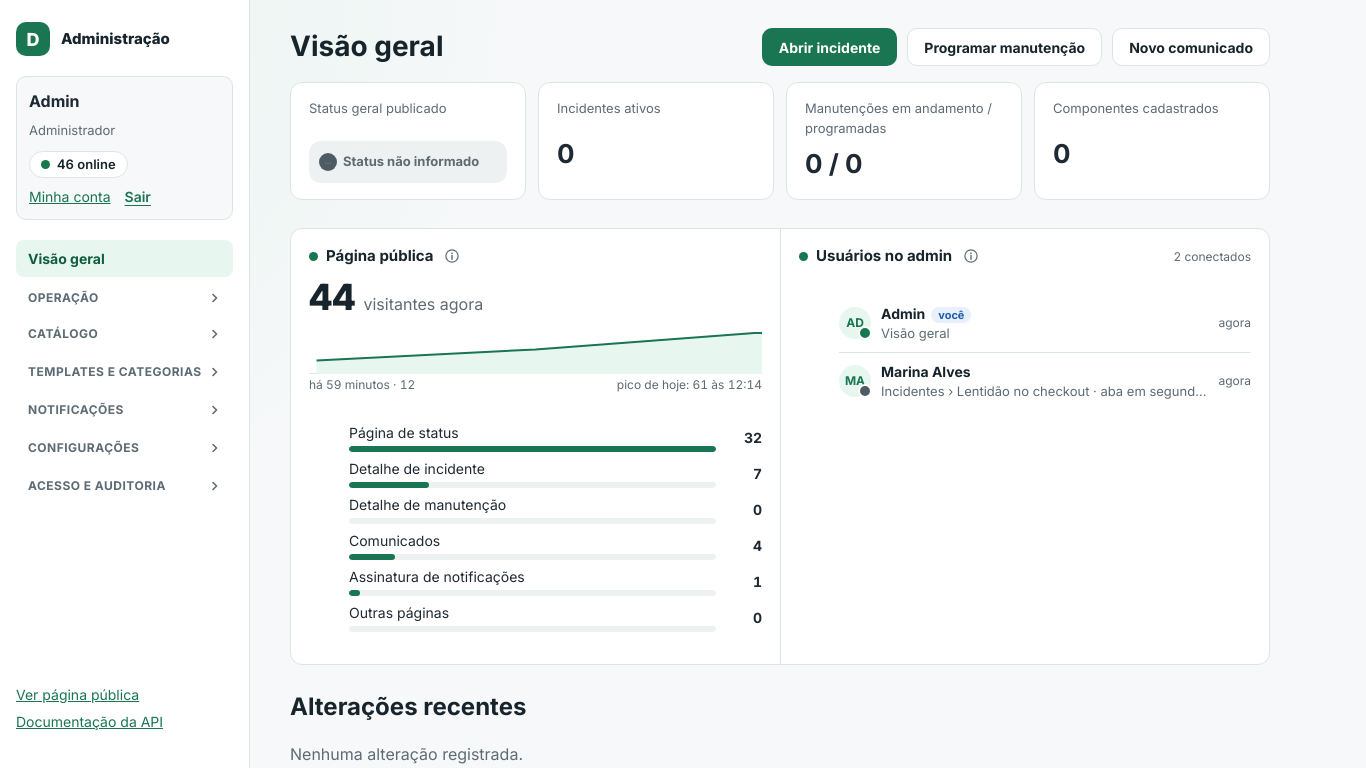
Test case: presence › shows who is here now on the overview and in the menu counter
This screenshot has width=1366, height=768.
Expected: the text "44" is shown, [309, 279, 356, 315]
Expected: the text "Detalhe de incidente" is shown, [349, 460, 485, 477]
Step 1. Click the button with aria-label "46 pessoas acessando agora" → (78, 164), box [29, 150, 128, 178]
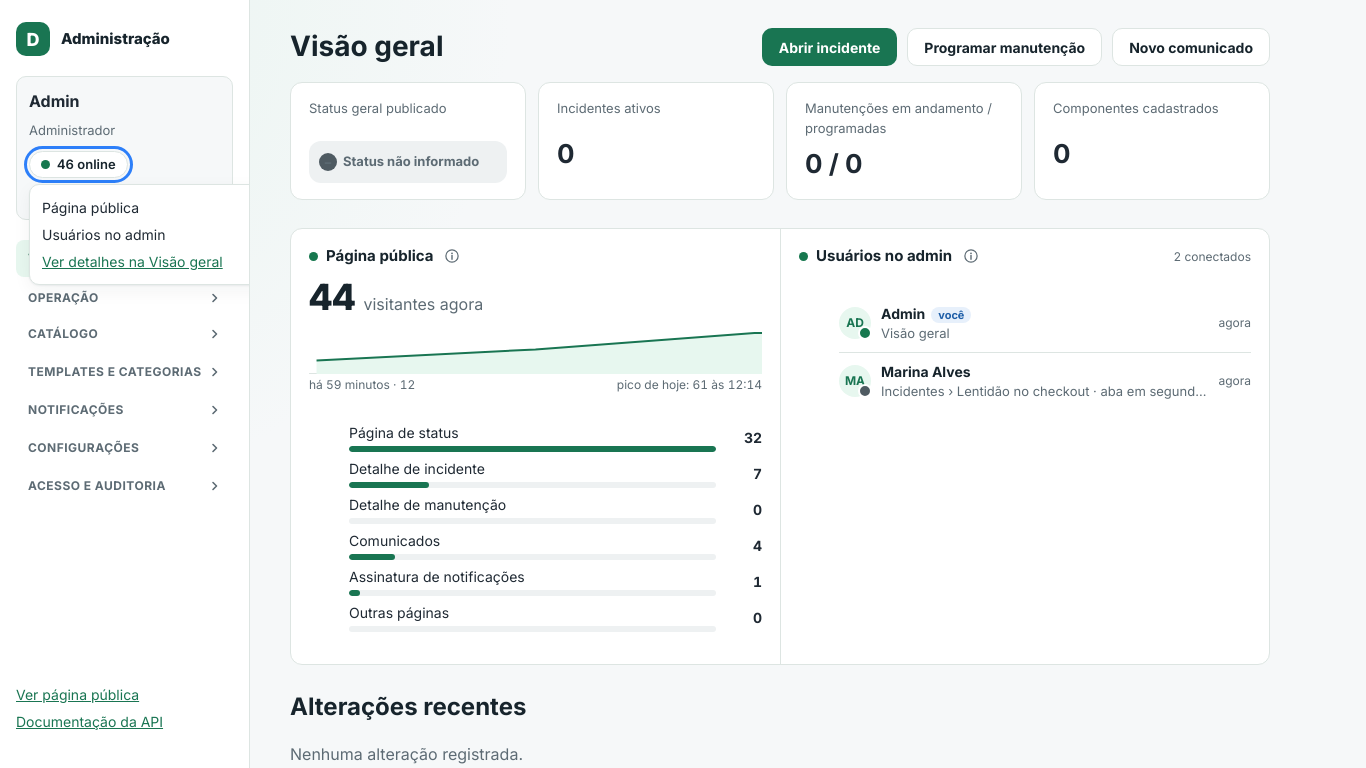
Now the link "Ver detalhes na Visão geral" is shown, box [42, 253, 223, 270]
